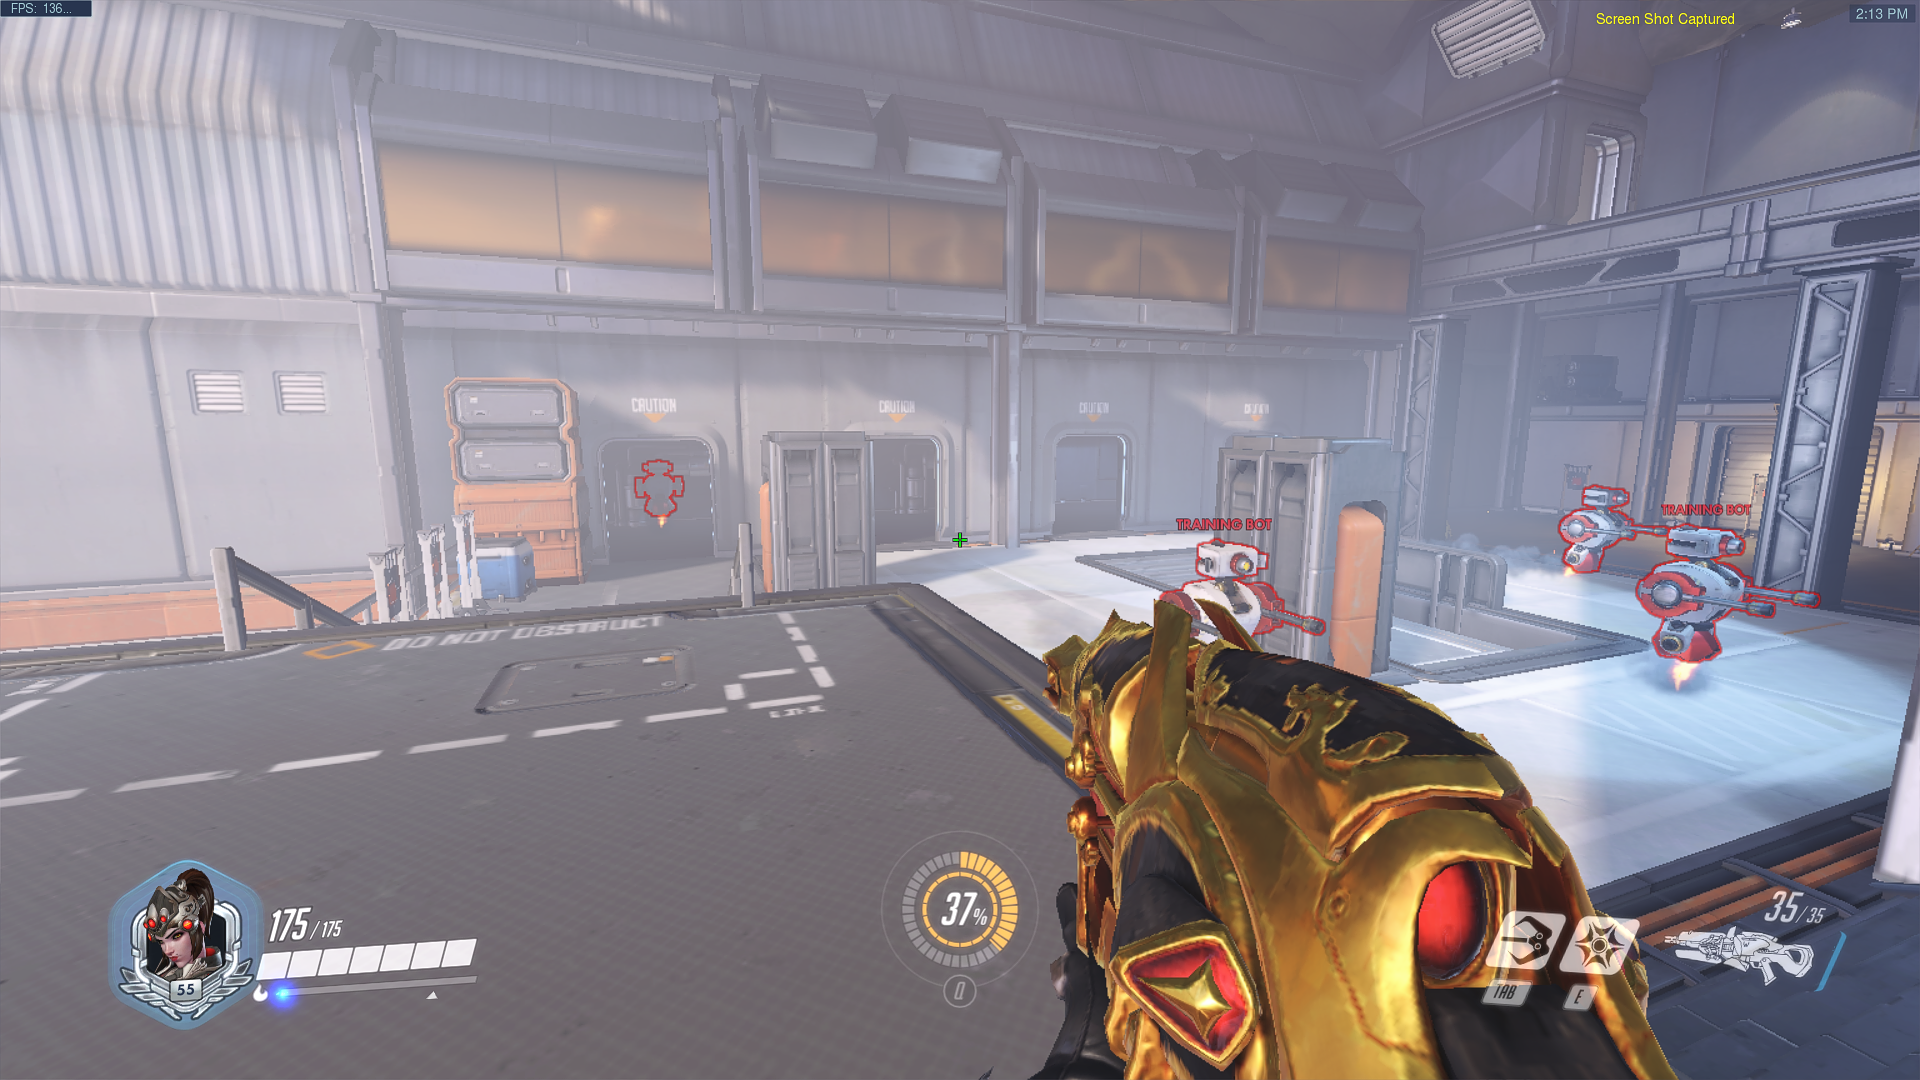head: (1188, 534, 1268, 576), (1663, 527, 1753, 562), (1569, 482, 1632, 516), (641, 456, 679, 479)
